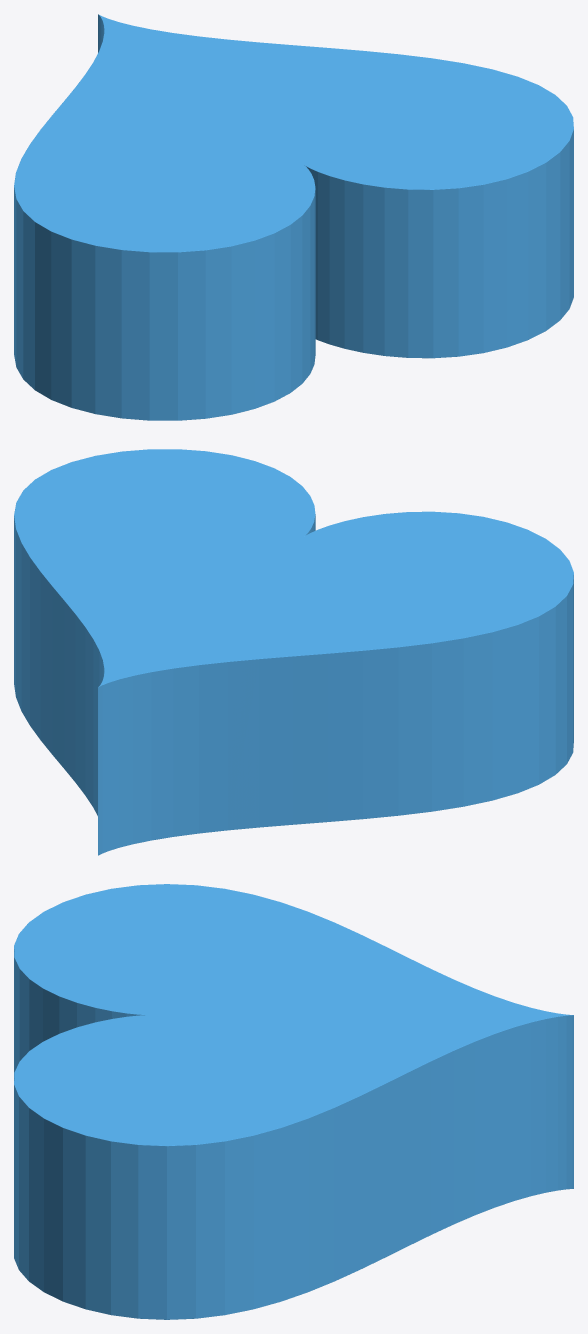
Rendered from ocean-heart.glb.
3 renders of one model, top to bottom at view 1: azimuth 30°, elevation 25°; view 2: azimuth 150°, elevation 25°; view 3: azimuth 270°, elevation 25°, orthographic. The views are drawn at different scales.
Parts seen in each view (by area): view 1: poly; view 2: poly; view 3: poly.
Part boxes in pixels (bbox=[...]): poly: bbox=[14, 14, 573, 420]; poly: bbox=[14, 449, 573, 855]; poly: bbox=[14, 884, 573, 1319].
Size of the model in its own units: 1.52 by 0.47 by 1.37.
